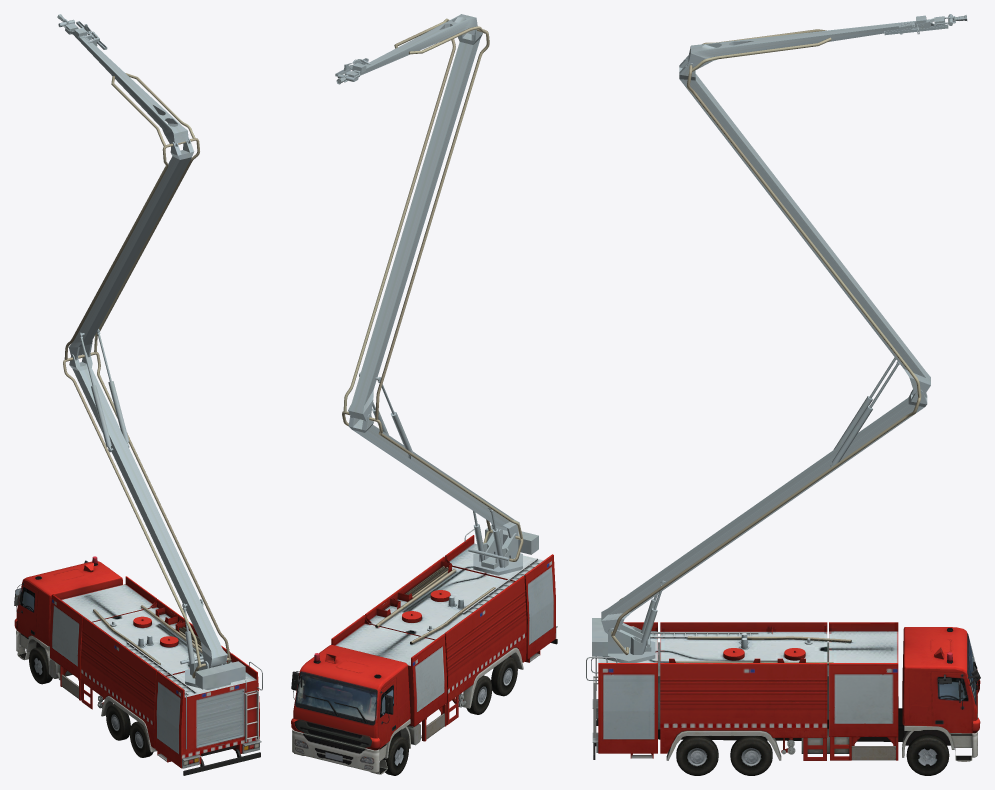
The model's file is Unity2GLTF.gltf.
3 views of the same model, side by side, from view 1: azimuth 30°, elevation 25°; view 2: azimuth 150°, elevation 25°; view 3: azimuth 270°, elevation 25° (orthographic). The views are drawn at different scales.
Parts seen in each view (by area): view 1: node_Lo-_01_-44092, node_Lo-A_01_-44100, node_Lo-C_01_-44108, node_Lo-E_01_-44116, node_Lo-D_01_-44128; view 2: node_Lo-_01_-44092, node_Lo-C_01_-44108, node_Lo-A_01_-44100, node_Lo-E_01_-44116, node_Lo-B_01_-44144; view 3: node_Lo-_01_-44092, node_Lo-A_01_-44100, node_Lo-C_01_-44108, node_Lo-E_01_-44116, node_Lo-D_01_-44128.
Part boxes in pixels (box(x1,y1,x2,y2)): node_Lo-_01_-44092: box(14, 556, 262, 775); node_Lo-A_01_-44100: box(63, 352, 230, 668); node_Lo-C_01_-44108: box(64, 138, 199, 360); node_Lo-E_01_-44116: box(57, 14, 195, 146); node_Lo-D_01_-44128: box(91, 381, 129, 452); node_Lo-_01_-44092: box(291, 525, 557, 775); node_Lo-C_01_-44108: box(343, 29, 489, 421); node_Lo-A_01_-44100: box(342, 411, 523, 538); node_Lo-E_01_-44116: box(335, 14, 485, 84); node_Lo-B_01_-44144: box(468, 524, 509, 567); node_Lo-_01_-44092: box(586, 618, 980, 775); node_Lo-A_01_-44100: box(601, 389, 927, 636); node_Lo-C_01_-44108: box(679, 55, 930, 397); node_Lo-E_01_-44116: box(688, 14, 967, 71); node_Lo-D_01_-44128: box(830, 396, 872, 467).
Size of the model in its own units: 2.6 by 16.91 by 8.18.
8 materials, 8 textured.
